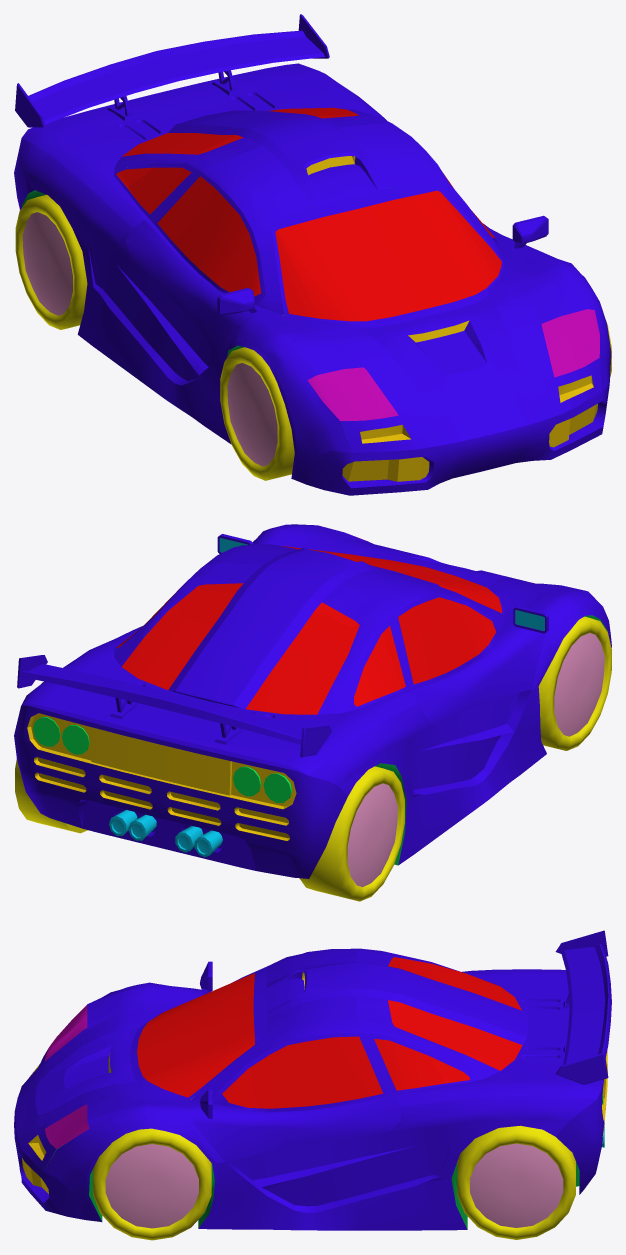
Rendered from Car10_ColorCoded.fbx.
3 renders of one model, top to bottom at view 1: azimuth 30°, elevation 25°; view 2: azimuth 150°, elevation 25°; view 3: azimuth 270°, elevation 25°, orthographic. The views are drawn at different scales.
Parts seen in each view (by area): view 1: carBody, tireBackR, tireFrontR; view 2: carBody, tireBackR, tireFrontR, tireBackL; view 3: carBody, tireBackL, tireFrontL.
Part boxes in pixels (x1,y1,x2,y2): carBody: (14,14,611,495); tireBackR: (15,194,87,329); tireFrontR: (220,347,294,480); carBody: (14,524,611,878); tireBackR: (299,766,404,901); tireFrontR: (538,616,611,750); tireBackL: (15,758,87,833); carBody: (14,930,611,1230); tireBackL: (457,1125,575,1239); tireFrontL: (93,1128,211,1240).
Bounding box in the file's own units: 64.32 × 113 × 40.8.
